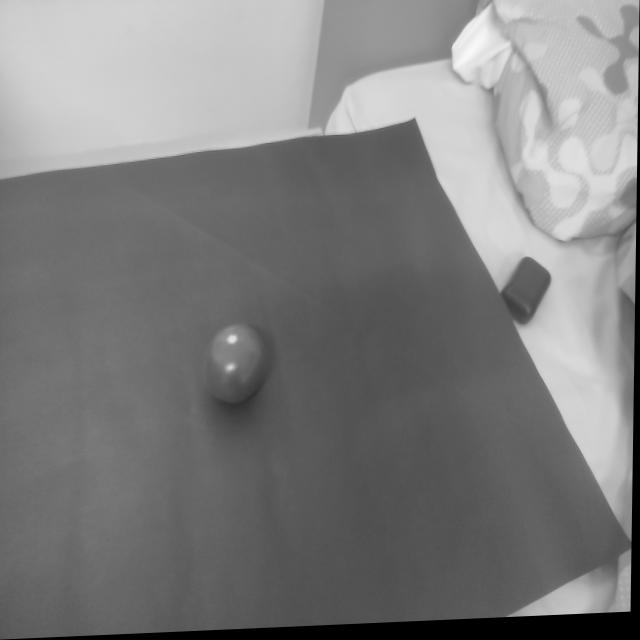kirmizi: (197, 307, 276, 424)
